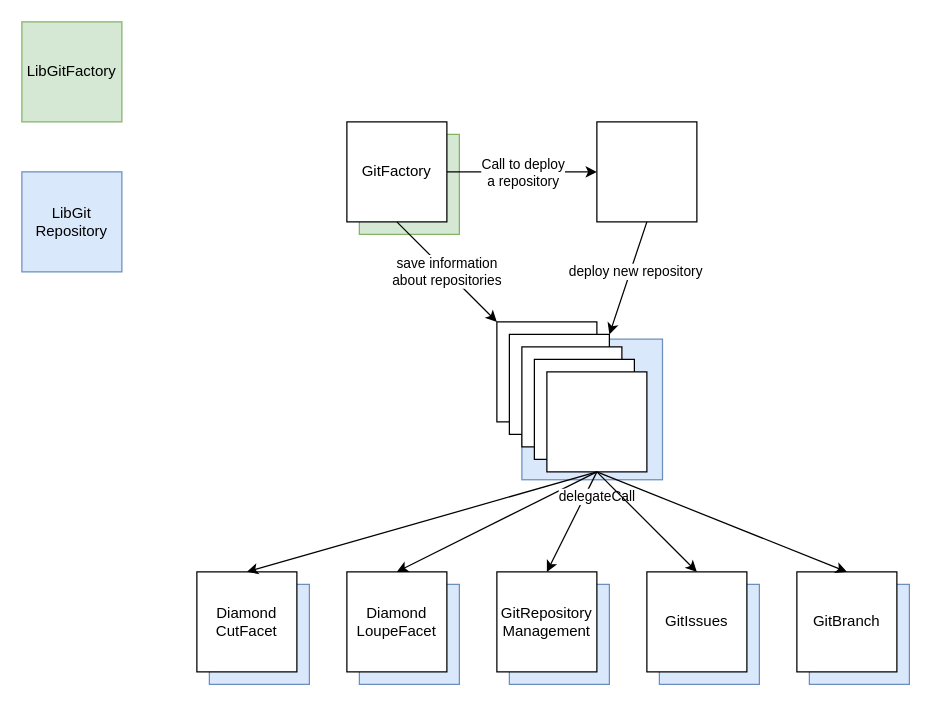
Some shapes in this 931 by 706 pixel diagram are drawn without their labels. Each missing label, with the box of its shape:
GitRepository: (546, 371, 647, 472)
GitRepository Deployer: (596, 121, 697, 222)
